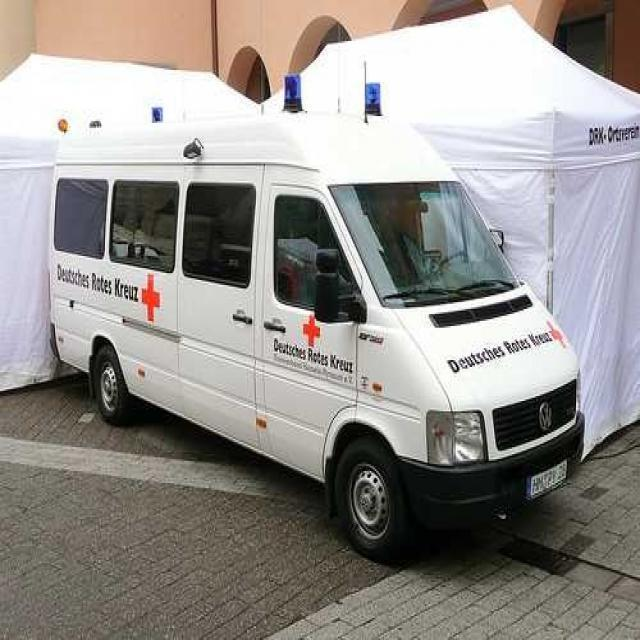emergency-vehicle: (34, 59, 592, 570)
